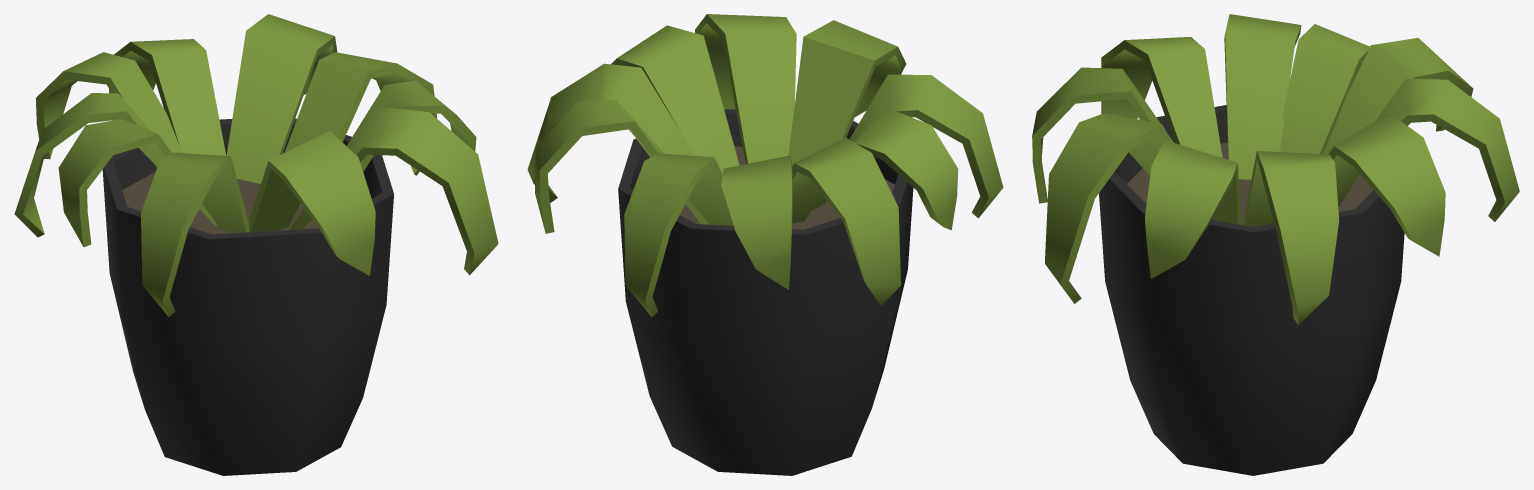
3 views of the same model, side by side, from view 1: azimuth 30°, elevation 25°; view 2: azimuth 150°, elevation 25°; view 3: azimuth 270°, elevation 25° (orthographic). The views are drawn at different scales.
Parts seen in each view (by area): view 1: Houseplant_5_Cylinder; view 2: Houseplant_5_Cylinder; view 3: Houseplant_5_Cylinder.
Part boxes in pixels (x1,y1,x2,y2): Houseplant_5_Cylinder: (14,14,498,475); Houseplant_5_Cylinder: (527,14,1003,475); Houseplant_5_Cylinder: (1032,14,1519,475).
Bounding box in the file's own units: 0.5118 × 0.4236 × 0.5284.
